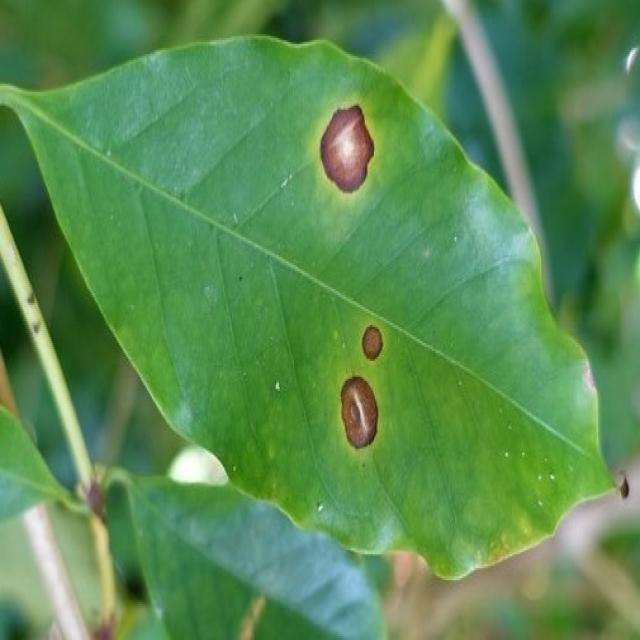Enfermedad-Mancha-de-hierro: (0, 34, 620, 584)
